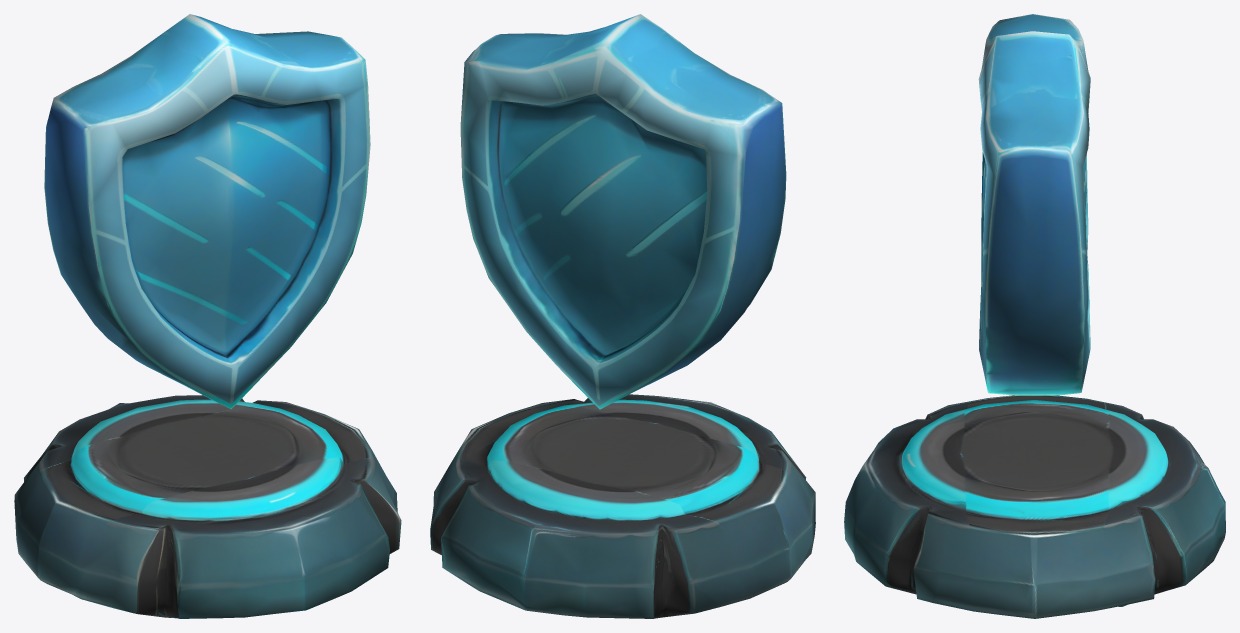
The model's file is Shield_of_Light_0929001909_texture.fbx.
3 views of the same model, side by side, from view 1: azimuth 30°, elevation 25°; view 2: azimuth 150°, elevation 25°; view 3: azimuth 270°, elevation 25° (orthographic).
Parts seen in each view (by area): view 1: input; view 2: input; view 3: input.
Boxes of the visible parts, box(x1,y1,x2,y2) form: input: box(14, 14, 401, 618); input: box(430, 14, 815, 618); input: box(844, 14, 1225, 618).
Size of the model in its own units: 114 by 191 by 114.
1 material, 1 textured.
